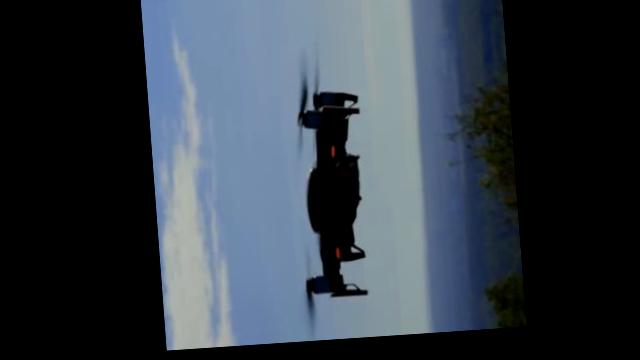drone: (284, 69, 369, 326)
